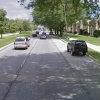Car: (61, 32, 92, 63)
